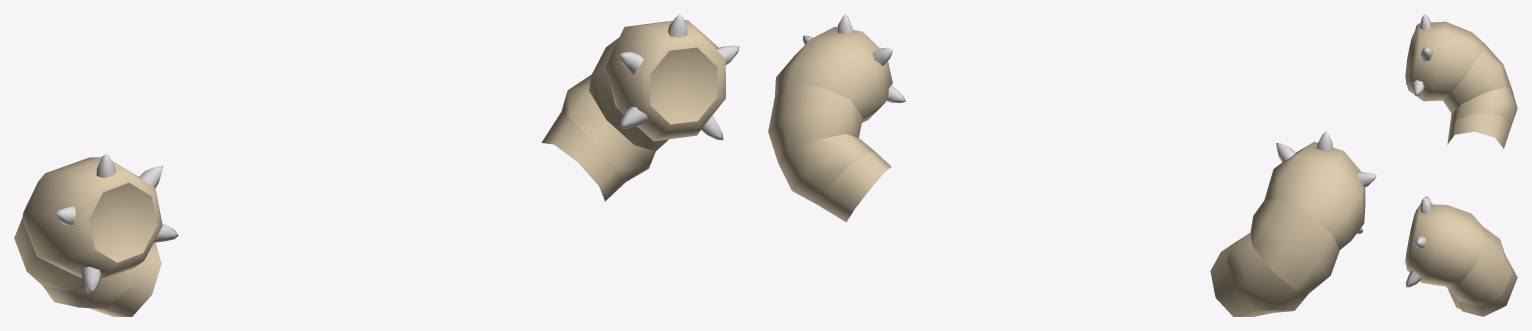
Rendered from S12_Bug06_L2_Ear.glb.
3 views of the same model, side by side, from view 1: azimuth 30°, elevation 25°; view 2: azimuth 150°, elevation 25°; view 3: azimuth 270°, elevation 25° (orthographic). The views are drawn at different scales.
Visible parts, largest first — view 1: S12_Bug06_L2_Ear__Ear_R__surface1__lod0, S12_Bug06_L2_Ear__Ear_L__surface0__lod0; view 2: S12_Bug06_L2_Ear__Ear_R__surface1__lod0, S12_Bug06_L2_Ear__Ear_L__surface0__lod0; view 3: S12_Bug06_L2_Ear__Ear_L__surface0__lod0, S12_Bug06_L2_Ear__Ear_R__surface1__lod0.
Boxes of the visible parts, bbox=[...] form: S12_Bug06_L2_Ear__Ear_R__surface1__lod0: bbox=[541, 14, 739, 201]; S12_Bug06_L2_Ear__Ear_L__surface0__lod0: bbox=[14, 154, 178, 316]; S12_Bug06_L2_Ear__Ear_R__surface1__lod0: bbox=[768, 14, 905, 222]; S12_Bug06_L2_Ear__Ear_L__surface0__lod0: bbox=[1210, 131, 1376, 316]; S12_Bug06_L2_Ear__Ear_L__surface0__lod0: bbox=[1405, 14, 1517, 148]; S12_Bug06_L2_Ear__Ear_R__surface1__lod0: bbox=[1405, 196, 1517, 316].
Bounding box in the file's own units: 1.36 × 0.3859 × 0.2948.
